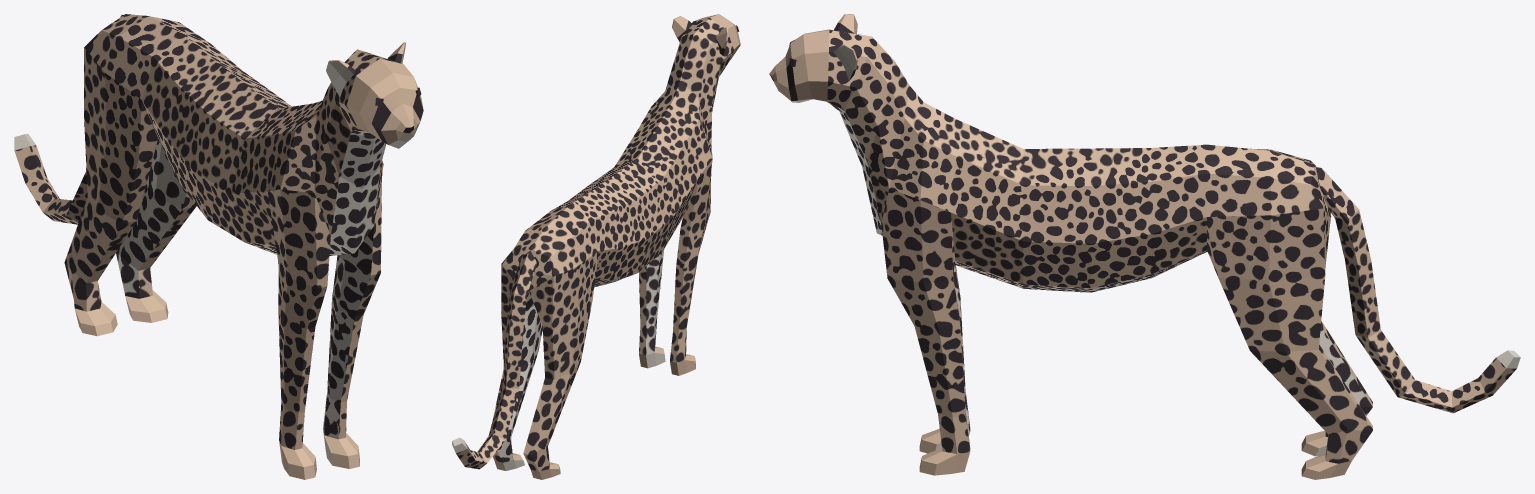
The model's file is Mesh_Cheetah.gltf.
The picture shows the model from 3 angles, left to right: view 1: azimuth 30°, elevation 25°; view 2: azimuth 150°, elevation 25°; view 3: azimuth 270°, elevation 25°; orthographic projection. The views are drawn at different scales.
Parts seen in each view (by area): view 1: node-0; view 2: node-0; view 3: node-0.
Boxes of the visible parts, x1,y1,x2,y2 form: node-0: (14, 14, 423, 479); node-0: (452, 14, 740, 479); node-0: (769, 14, 1520, 479).
Size of the model in its own units: 28.16 by 117 by 186.
1 material, 1 textured.
